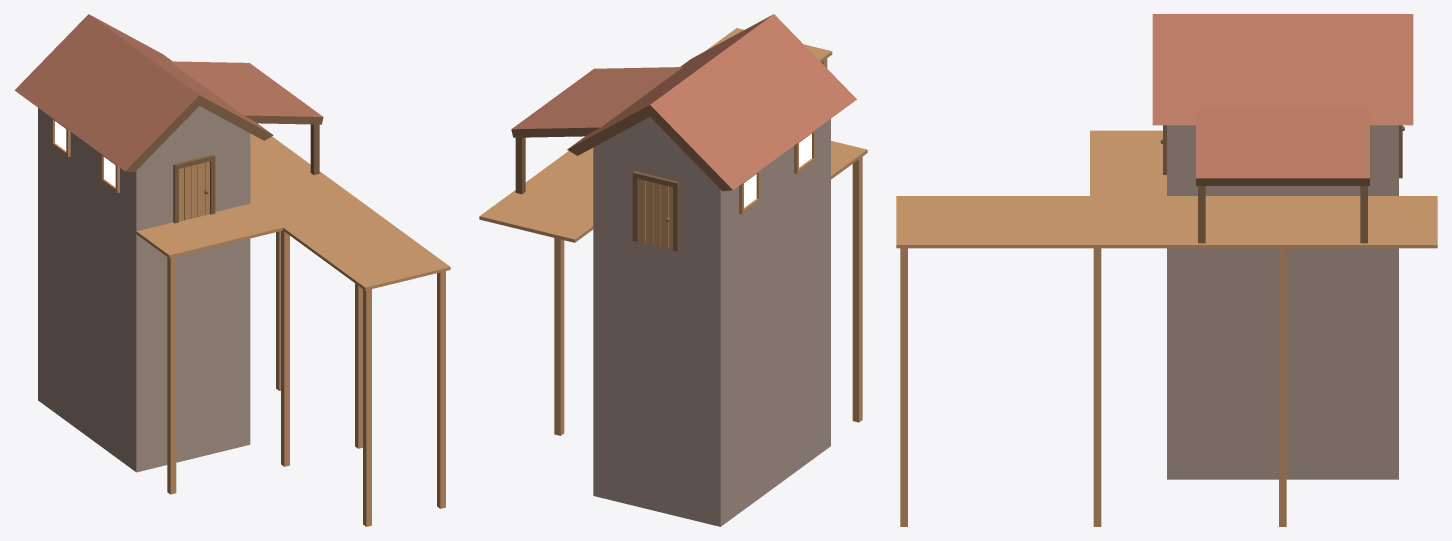
The model's file is SM_Dock_01.fbx.
The picture shows the model from 3 angles, left to right: view 1: azimuth 30°, elevation 25°; view 2: azimuth 150°, elevation 25°; view 3: azimuth 270°, elevation 25°; orthographic projection. The views are drawn at different scales.
Visible parts, largest first — view 1: SM_Dock_01, DoorFlat_01.004, WindowSmall_01.011, WindowSmall_01.012; view 2: SM_Dock_01, DoorFlat_01.005, WindowSmall_01.011, WindowSmall_01.012; view 3: SM_Dock_01.
Part boxes in pixels (x1,y1,x2,y2): SM_Dock_01: (14,14,450,526); DoorFlat_01.004: (173,154,215,223); WindowSmall_01.011: (100,154,119,193); WindowSmall_01.012: (51,118,70,156); SM_Dock_01: (479,14,867,526); DoorFlat_01.005: (632,171,679,251); WindowSmall_01.011: (794,130,815,173); WindowSmall_01.012: (739,170,760,214); SM_Dock_01: (896,14,1437,526).
Bounding box in the file's own units: 762 × 1236 × 1400.
